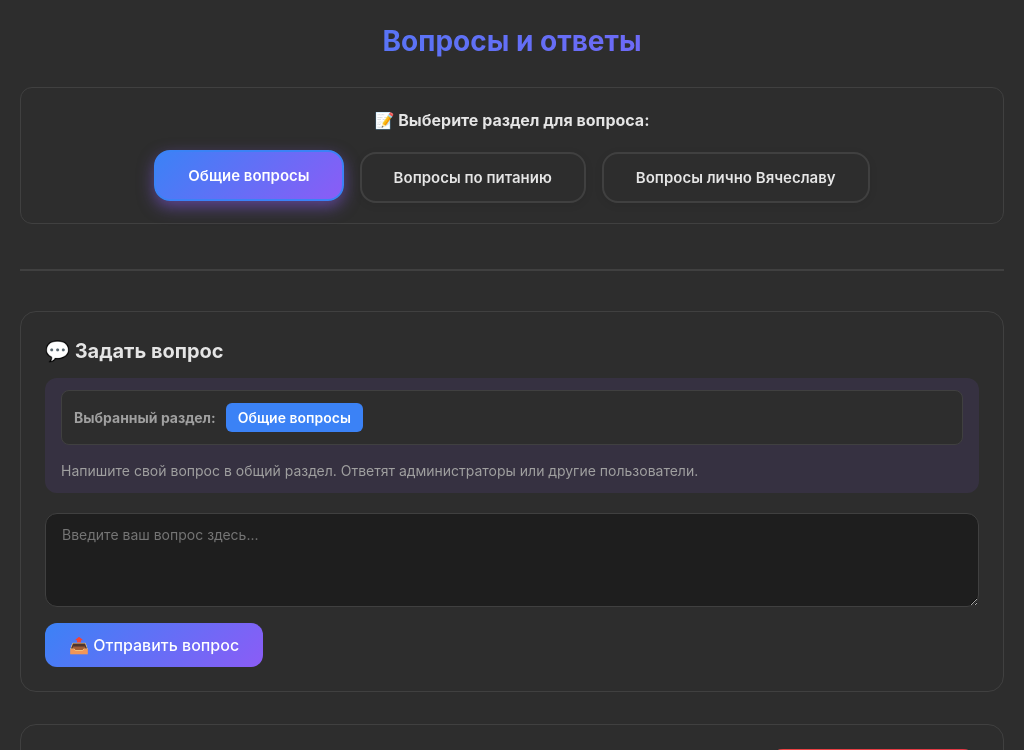
Test case: Questions › shows question sent notification
The width and height of the screenshot is (1024, 750).
Type "Test" into the text box with placeholder "Введите ваш вопрос здесь...".
click(512, 560); type("Test")  # box x1=45 y1=513 x2=979 y2=607
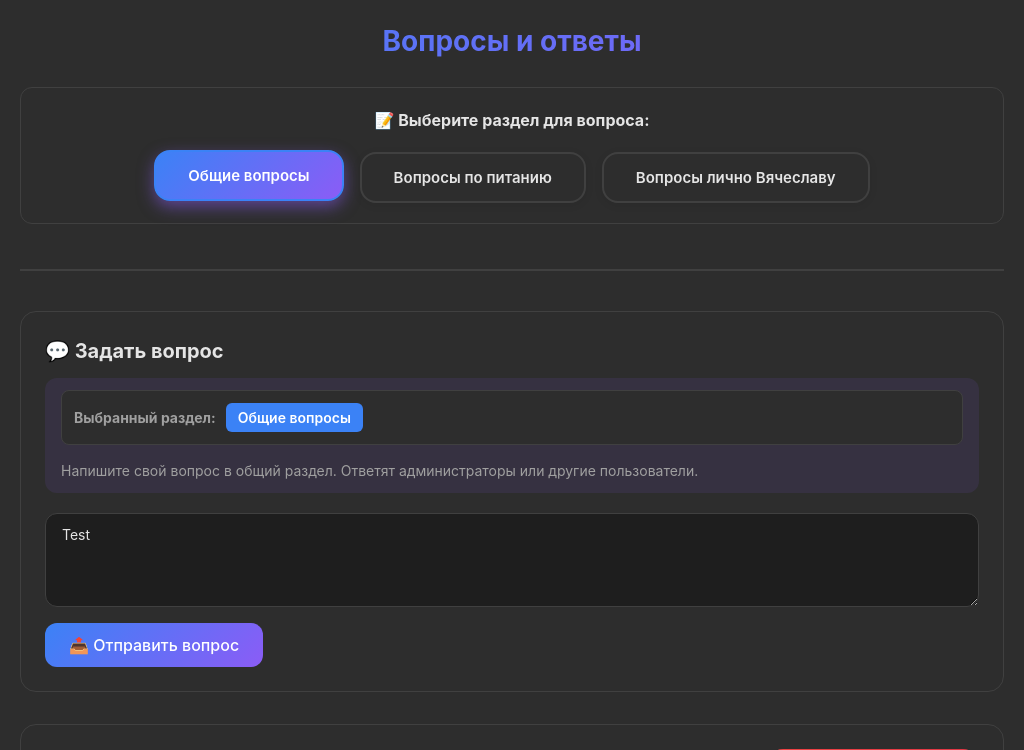
Click the button "📤 Отправить вопрос".
click(154, 645)  # box x1=45 y1=623 x2=263 y2=667
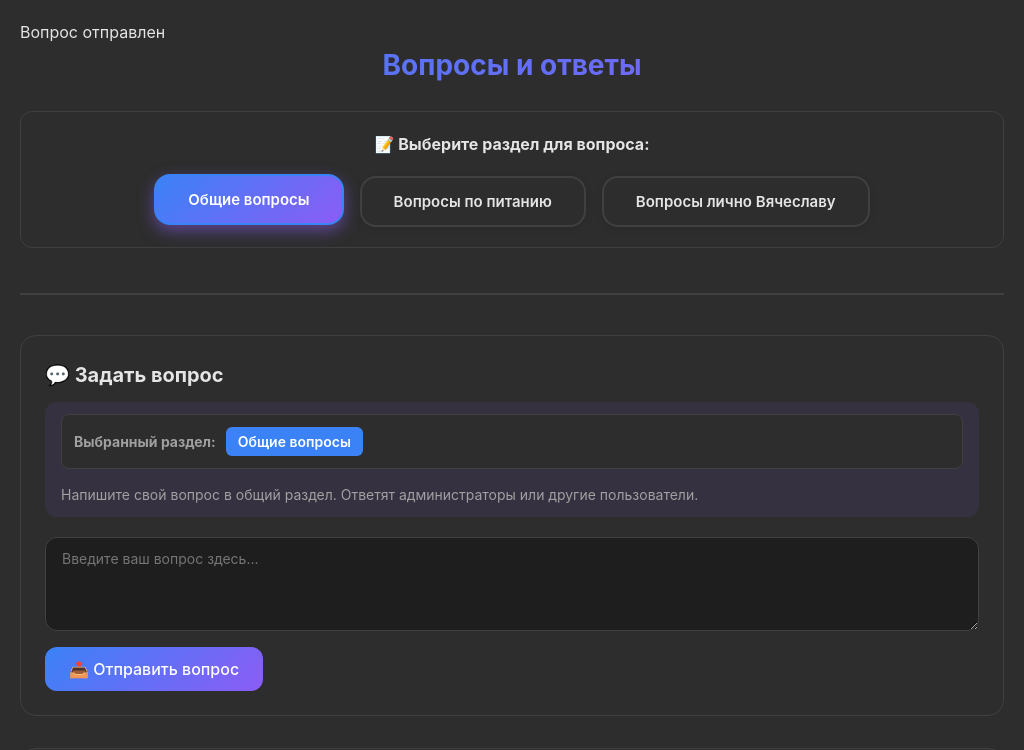
Expected: the text "Вопрос отправлен" is shown, x1=20 y1=22 x2=165 y2=42
